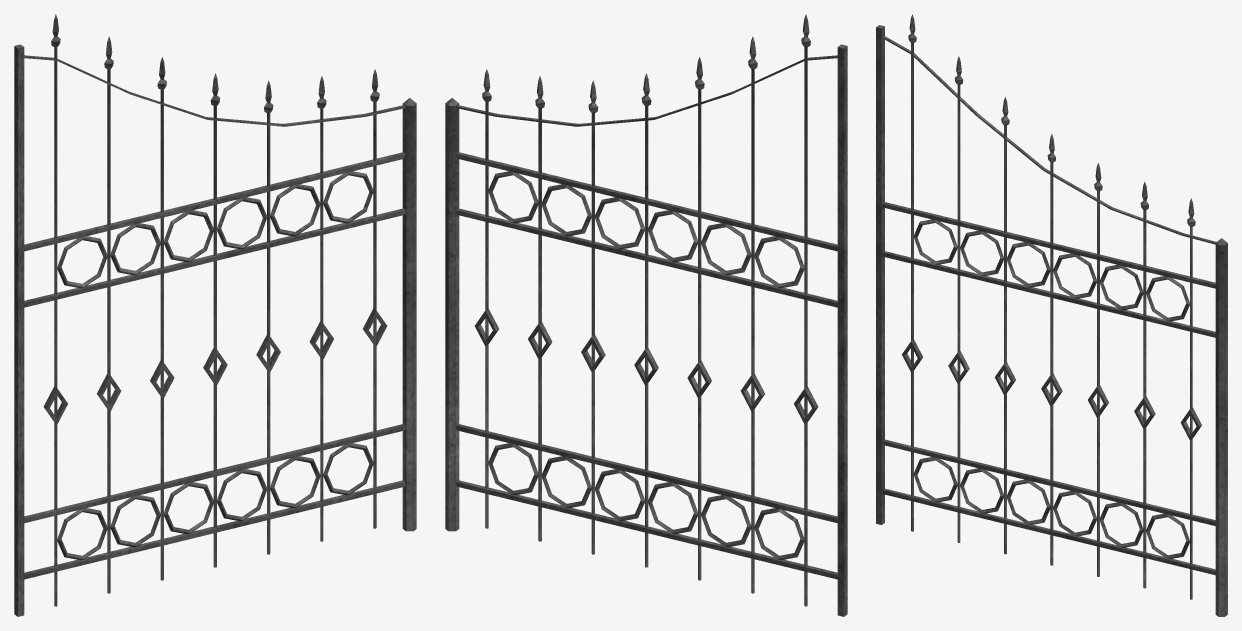
The model's file is MS_IronFenceGate.fbx.
The picture shows the model from 3 angles, left to right: view 1: azimuth 30°, elevation 25°; view 2: azimuth 150°, elevation 25°; view 3: azimuth 330°, elevation 25°; orthographic projection. The views are drawn at different scales.
Parts seen in each view (by area): view 1: MSH_Gate_Iron_R; view 2: MSH_Gate_Iron_R; view 3: MSH_Gate_Iron_R.
Boxes of the visible parts, x1,y1,x2,y2 form: MSH_Gate_Iron_R: (14, 14, 416, 616); MSH_Gate_Iron_R: (445, 14, 847, 616); MSH_Gate_Iron_R: (876, 14, 1227, 616).
Size of the model in its own units: 223 by 321 by 6.76.
